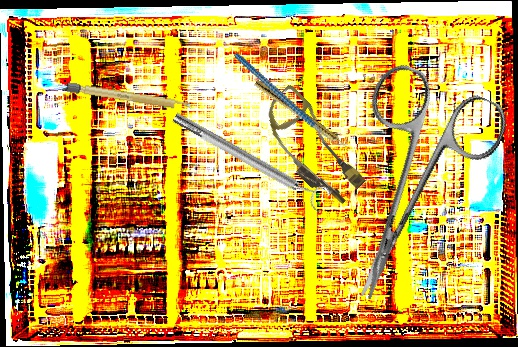Cannula: (248, 83, 377, 212)
Chopper: (234, 27, 348, 173)
Fixation Ring: (168, 103, 333, 215)
Handpiece: (252, 79, 351, 152)
Iris Scissors: (298, 57, 514, 323)
Scalpel Handle: (66, 82, 194, 112)
